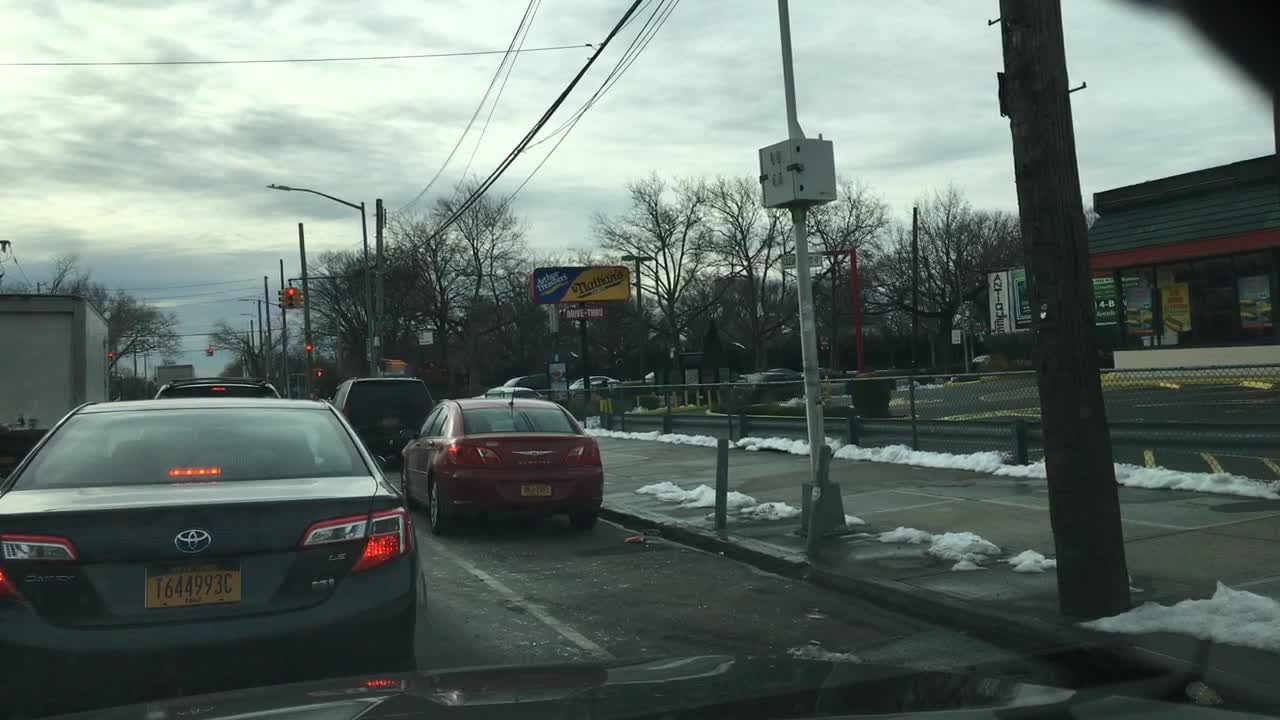car: (0, 398, 429, 718), (400, 395, 603, 536), (333, 374, 437, 459), (154, 379, 285, 401), (503, 373, 555, 395), (570, 374, 623, 391), (481, 383, 535, 398), (736, 369, 803, 381), (970, 353, 995, 374), (814, 368, 847, 380)
traffic light: (381, 361, 405, 374), (310, 364, 324, 380), (286, 286, 296, 308), (296, 289, 306, 309), (303, 341, 312, 358), (277, 289, 285, 308), (206, 346, 212, 359)
truck: (0, 291, 109, 472), (152, 361, 194, 385)
